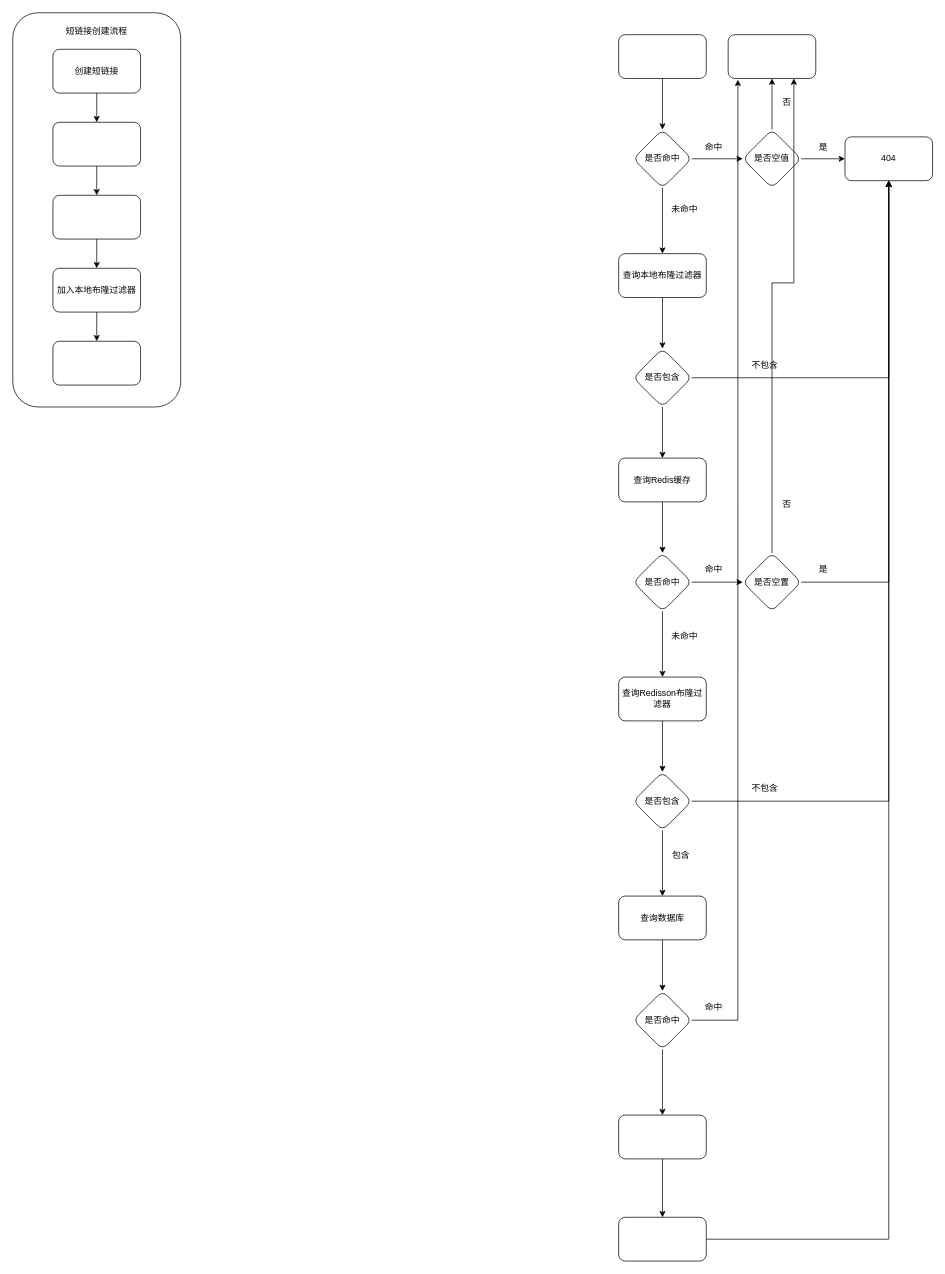
Some shapes in this 945 by 1274 pixel diagram are drawn without their labels. Here are the shapes that lost their labels. From the top down, the centre of each, then its label:
the point at 662,56: 访问本地缓存
the point at 771,56: 返回原始链接
the point at 96,144: 加入本地缓存
the point at 96,217: 加入Redis缓存
the point at 96,363: 加入Redisson布隆过滤器
the point at 662,1136: 设置本地缓存空置
the point at 662,1239: 设置Redis缓存空置
